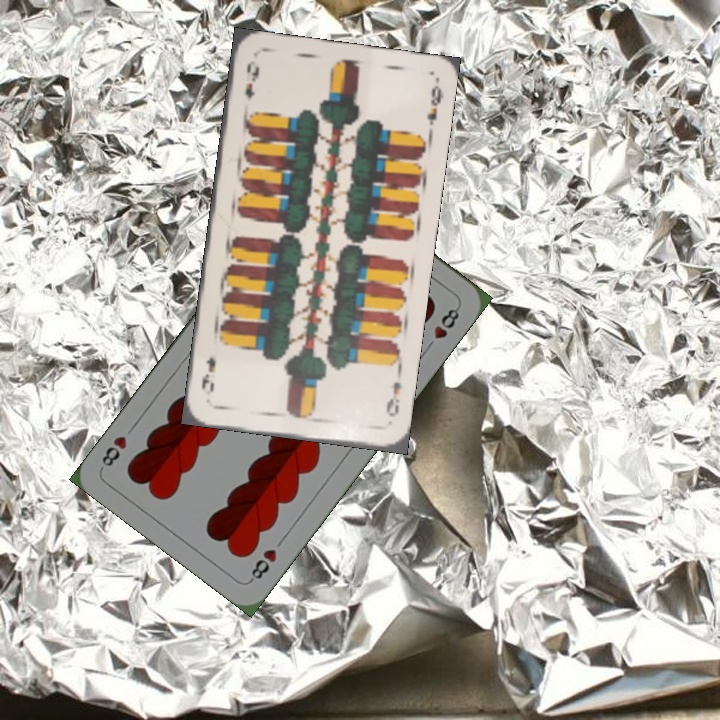E9: (382, 367, 405, 420), (240, 56, 262, 101)
H8: (246, 544, 280, 585)
